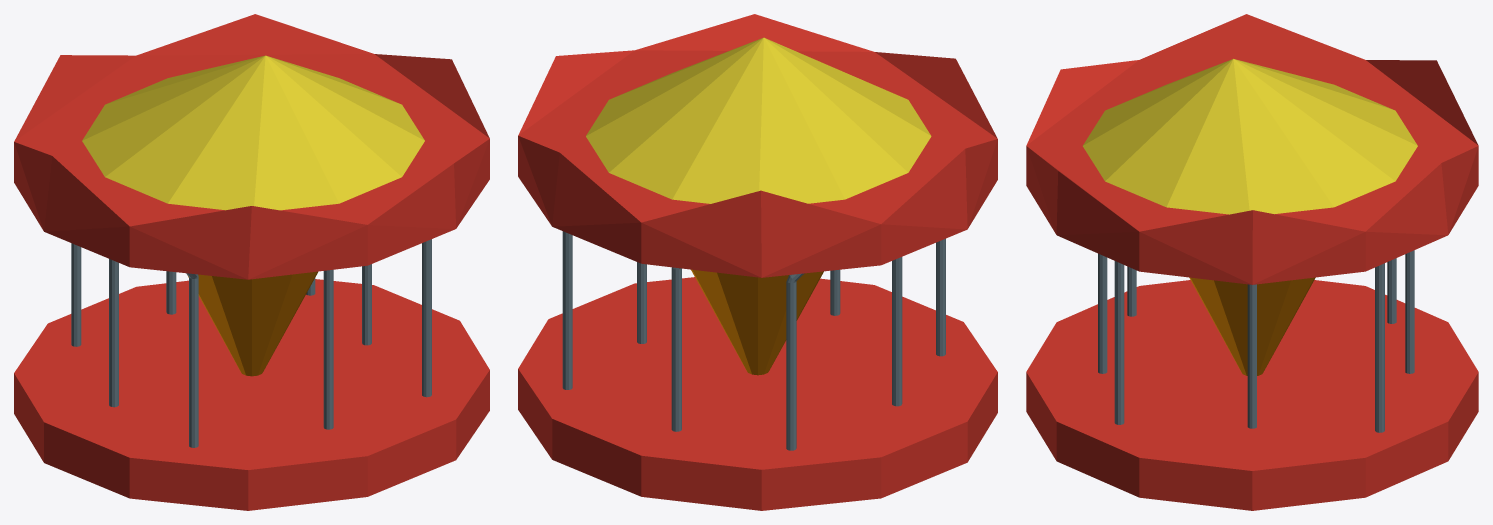
3 renders of one model, left to right at view 1: azimuth 30°, elevation 25°; view 2: azimuth 150°, elevation 25°; view 3: azimuth 270°, elevation 25°, orthographic. The views are drawn at different scales.
Parts seen in each view (by area): view 1: node_MeshObject2058231808-PolyPaper8; view 2: node_MeshObject2058231808-PolyPaper8; view 3: node_MeshObject2058231808-PolyPaper8.
Part boxes in pixels (box(x1,y1,x2,y2)): node_MeshObject2058231808-PolyPaper8: box(14, 14, 489, 510); node_MeshObject2058231808-PolyPaper8: box(518, 14, 997, 510); node_MeshObject2058231808-PolyPaper8: box(1026, 14, 1478, 510).
Bounding box in the file's own units: 1.92 × 1.6 × 1.85.
